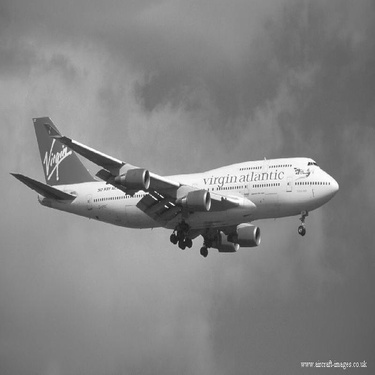airplane: (15, 88, 350, 262)
